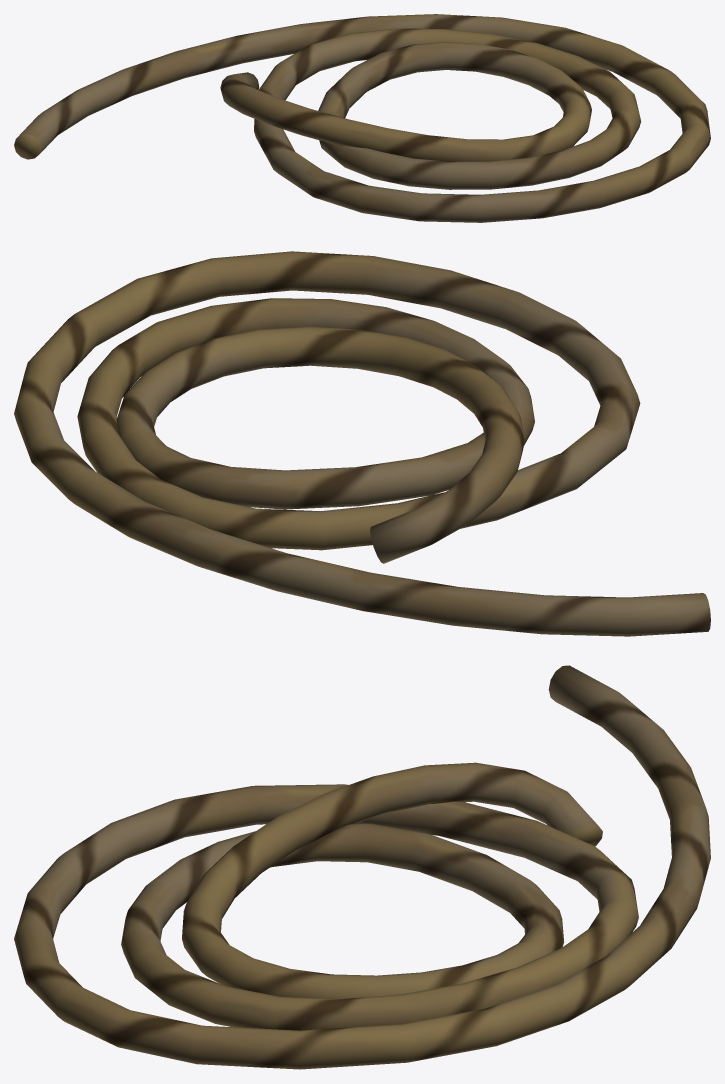
File: rope_3.glb
The picture shows the model from 3 angles, top to bottom: view 1: azimuth 30°, elevation 25°; view 2: azimuth 150°, elevation 25°; view 3: azimuth 270°, elevation 25°; orthographic projection. The views are drawn at different scales.
Parts seen in each view (by area): view 1: Rope_3; view 2: Rope_3; view 3: Rope_3.
Part boxes in pixels (x1,y1,x2,y2): Rope_3: [14, 14, 710, 222]; Rope_3: [14, 251, 710, 636]; Rope_3: [14, 665, 710, 1069].
Bounding box in the file's own units: 1.23 × 0.1018 × 0.9508.
1 material, 1 textured.
